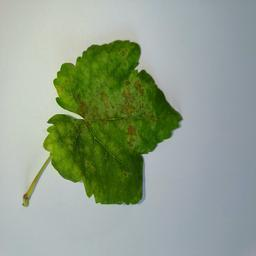Powdery-Mildew: (48, 132, 80, 176), (119, 79, 156, 114), (82, 84, 111, 122), (97, 44, 131, 69), (62, 69, 81, 103), (125, 119, 147, 147), (105, 140, 121, 156)
